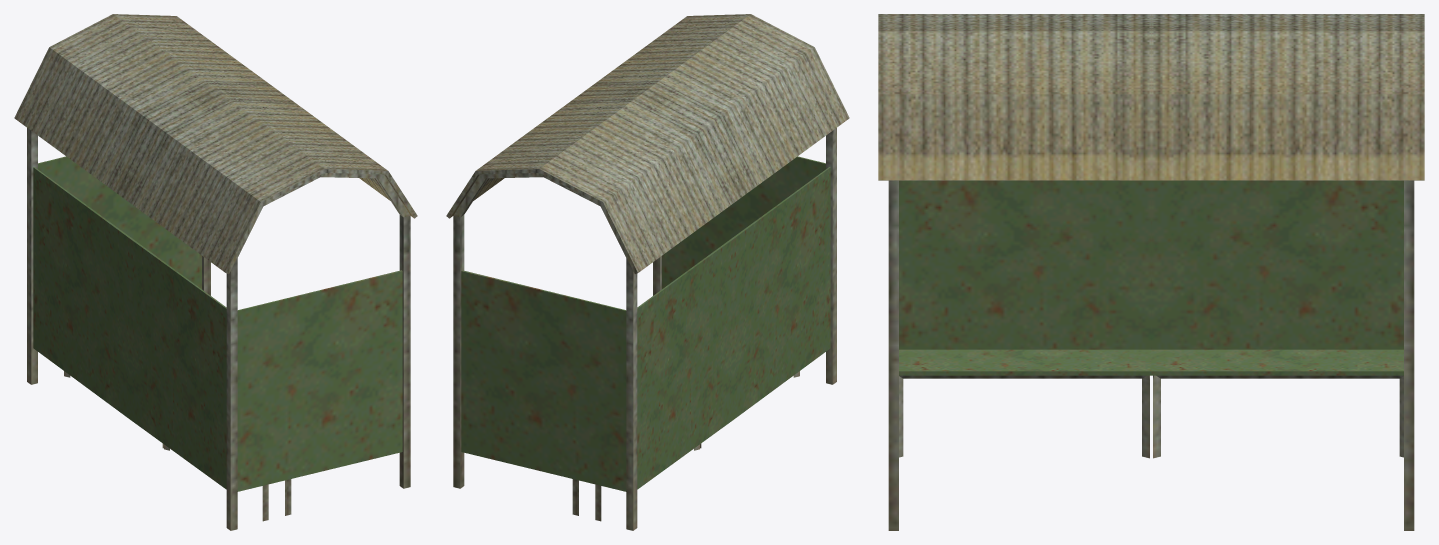
File: Urban_BusstopCleanBenchRoundRoof_Model.fbx
3 views of the same model, side by side, from view 1: azimuth 30°, elevation 25°; view 2: azimuth 150°, elevation 25°; view 3: azimuth 270°, elevation 25° (orthographic). The views are drawn at different scales.
Parts seen in each view (by area): view 1: Urban_BusstopCleanBenchRoundRoof_Mesh; view 2: Urban_BusstopCleanBenchRoundRoof_Mesh; view 3: Urban_BusstopCleanBenchRoundRoof_Mesh.
Boxes of the visible parts, left/top/right/bottom form: Urban_BusstopCleanBenchRoundRoof_Mesh: left=14, top=14, right=417, bottom=530; Urban_BusstopCleanBenchRoundRoof_Mesh: left=446, top=14, right=849, bottom=530; Urban_BusstopCleanBenchRoundRoof_Mesh: left=878, top=14, right=1424, bottom=530.
Size of the model in its own units: 2.22 by 3.8 by 4.24.
